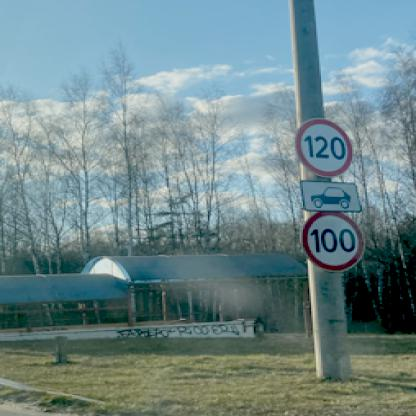speedlimit: (298, 209, 360, 271), (293, 117, 351, 177)
